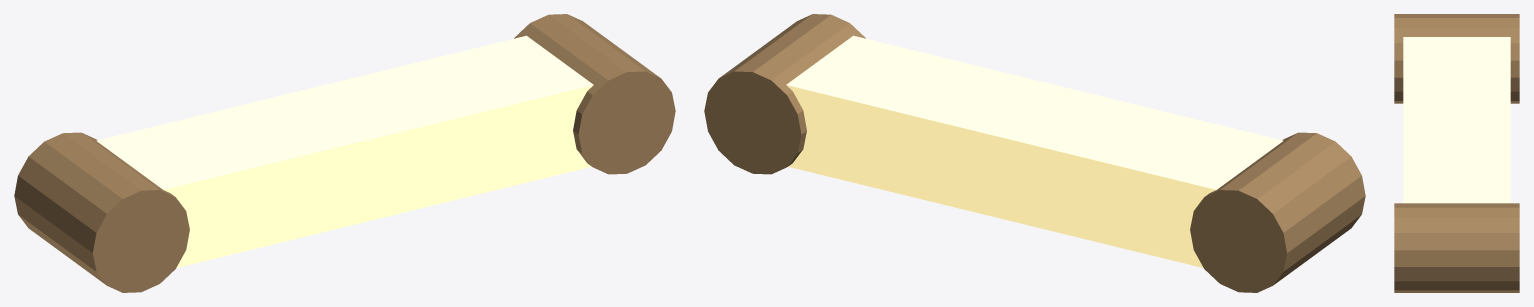
File: scroll.glb
The picture shows the model from 3 angles, left to right: view 1: azimuth 30°, elevation 25°; view 2: azimuth 150°, elevation 25°; view 3: azimuth 270°, elevation 25°; orthographic projection. The views are drawn at different scales.
Parts seen in each view (by area): view 1: scroll; view 2: scroll; view 3: scroll.
Boxes of the visible parts, box(x1,y1,x2,y2) form: scroll: box(14, 14, 675, 292); scroll: box(704, 14, 1365, 292); scroll: box(1394, 14, 1519, 292).
Bounding box in the file's own units: 0.6 × 0.1 × 0.14.
